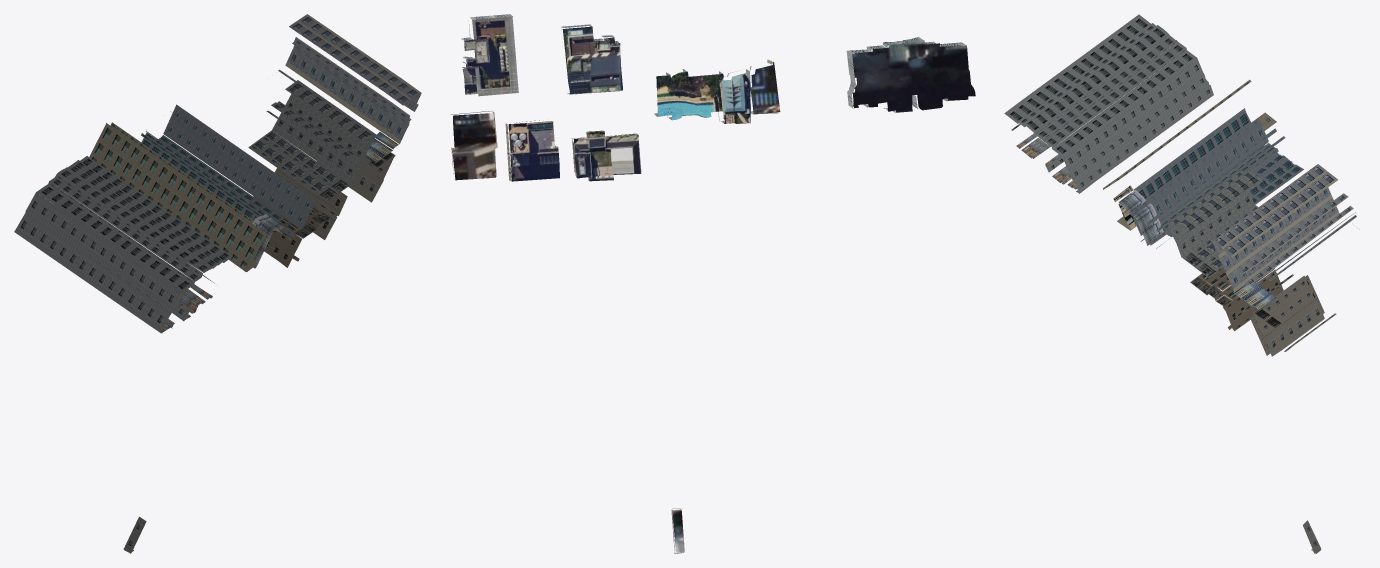
File: tile_LOD4_r2_c13.glb
3 views of the same model, side by side, from view 1: azimuth 30°, elevation 25°; view 2: azimuth 150°, elevation 25°; view 3: azimuth 270°, elevation 25° (orthographic). The views are drawn at different scales.
Size of the model in its own units: 146 by 149 by 106.
Materials: 45 (45 with a texture image).
